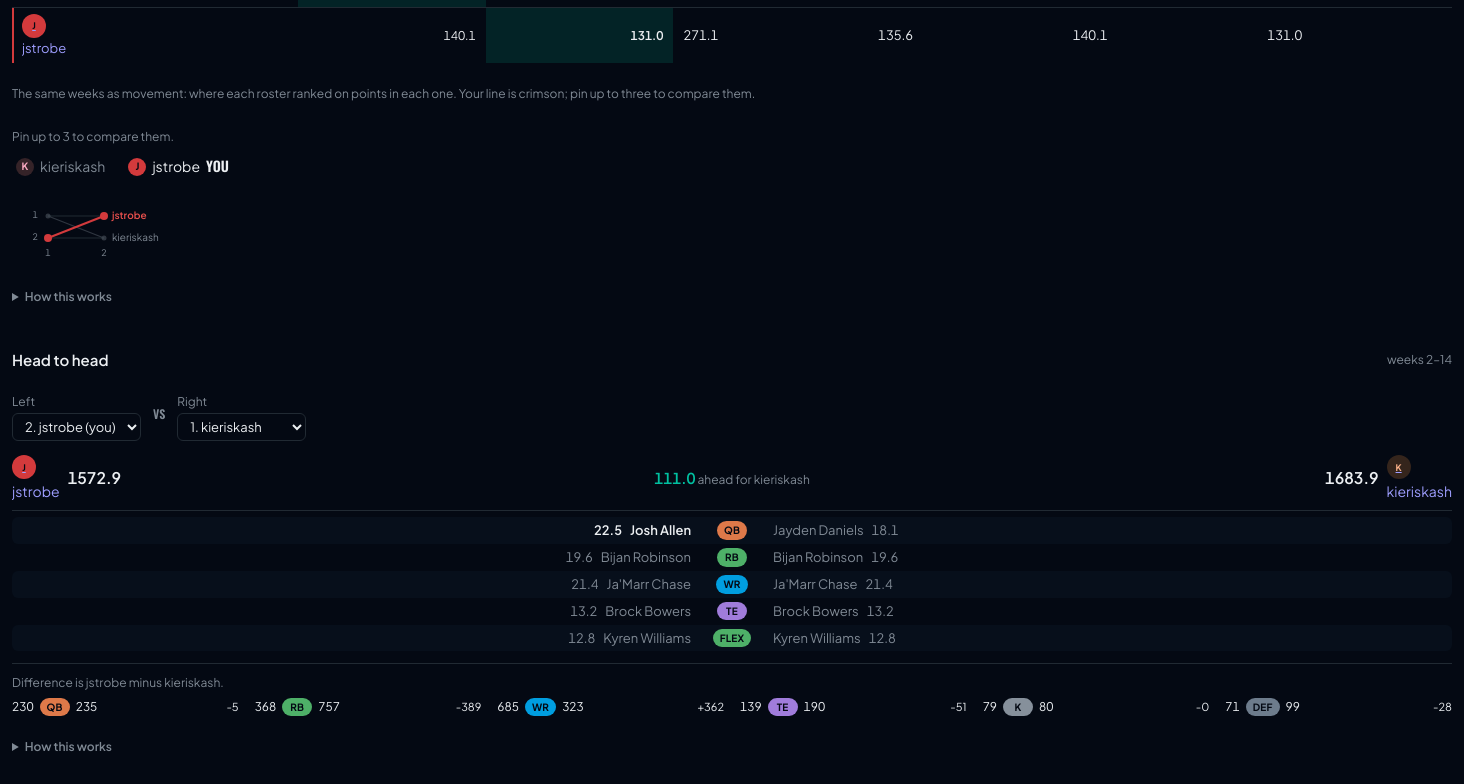
Test: LeagueAnalysis › swaps the compared roster when the picker changes
(page scrolled)
Check: the heading "Head to head" is shown, box [12,349,108,371]
Select "1. kieriskash" in the dropdown labelled "Left" at {"x": 76, "y": 427}, box [12,413,141,441]
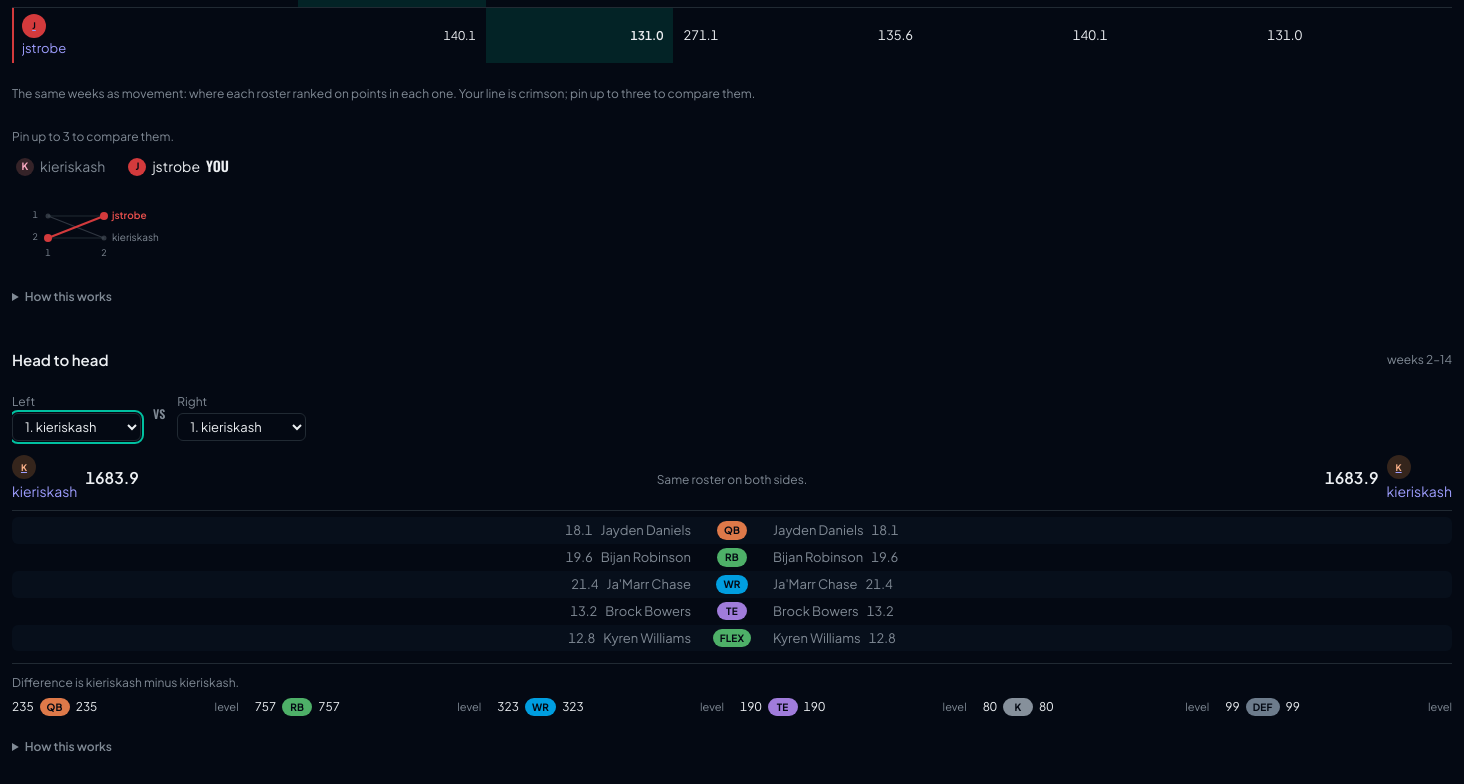
Check: the text "Josh Allen" is gone
